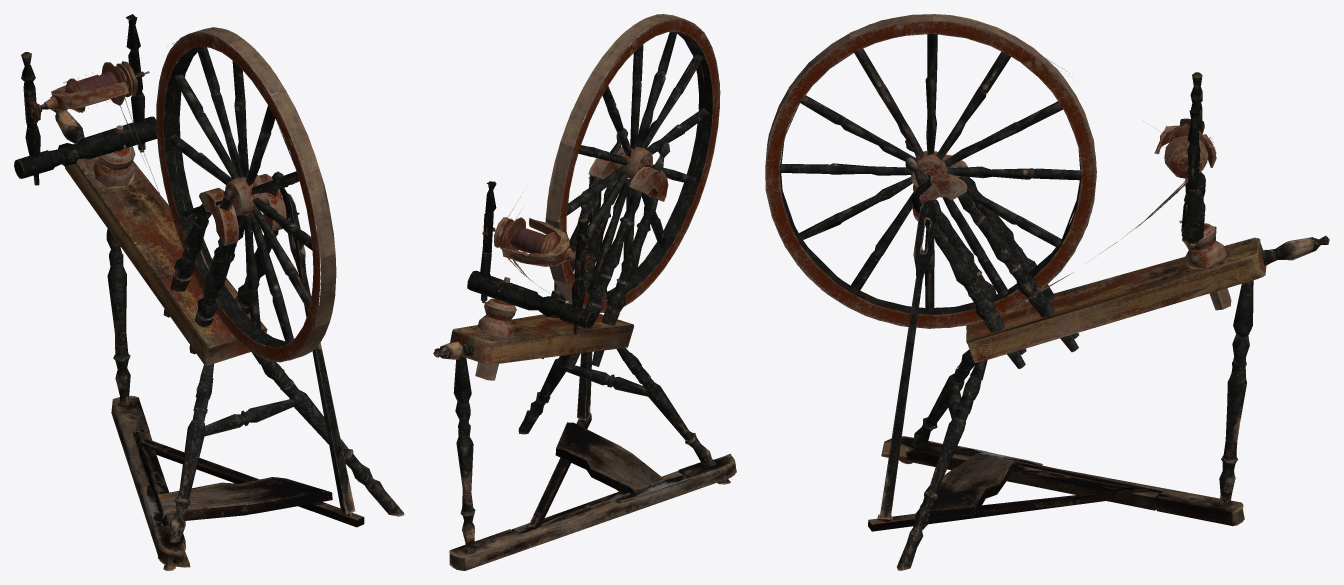
Rendered from spinning_wheel.glb.
The picture shows the model from 3 angles, left to right: view 1: azimuth 30°, elevation 25°; view 2: azimuth 150°, elevation 25°; view 3: azimuth 270°, elevation 25°; orthographic projection. The views are drawn at different scales.
Parts seen in each view (by area): view 1: spinning_wheel_01_spinning_wheel_01_0; view 2: spinning_wheel_01_spinning_wheel_01_0; view 3: spinning_wheel_01_spinning_wheel_01_0.
Boxes of the visible parts, left/top/right/bottom form: spinning_wheel_01_spinning_wheel_01_0: left=14, top=14, right=404, bottom=570; spinning_wheel_01_spinning_wheel_01_0: left=433, top=14, right=736, bottom=570; spinning_wheel_01_spinning_wheel_01_0: left=765, top=14, right=1329, bottom=570.
Bounding box in the file's own units: 0.4896 × 0.9662 × 1.02.
1 material, 1 textured.
